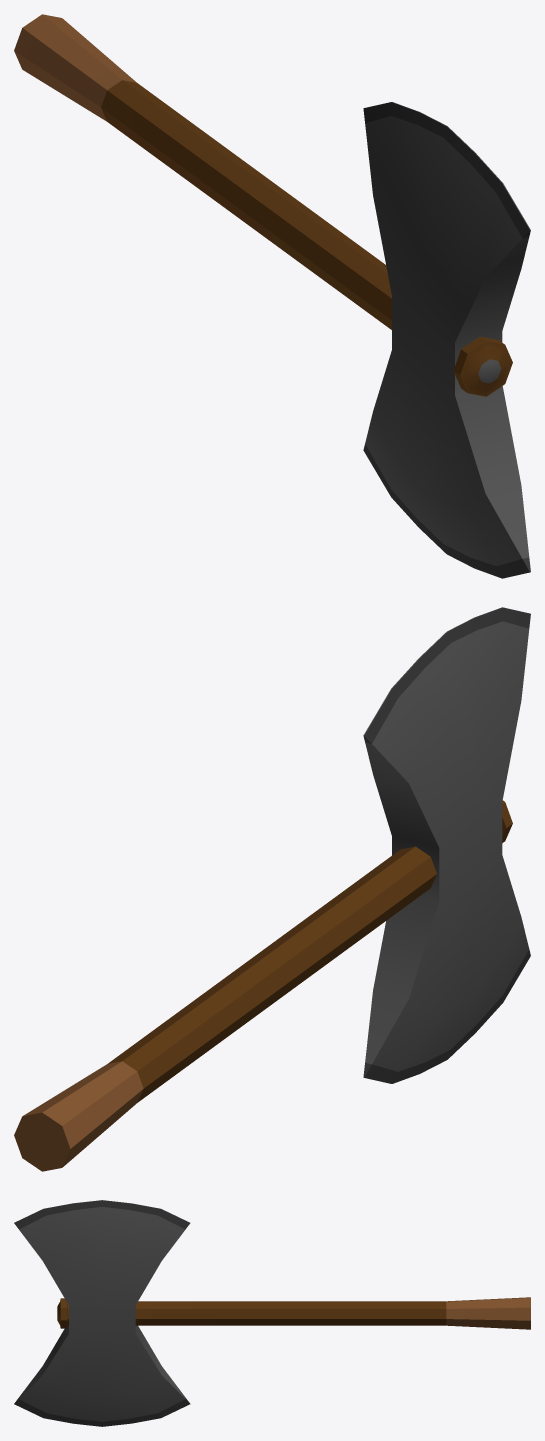
Rendered from arma_3_02.fbx.
The picture shows the model from 3 angles, top to bottom: view 1: azimuth 30°, elevation 25°; view 2: azimuth 150°, elevation 25°; view 3: azimuth 270°, elevation 25°; orthographic projection. The views are drawn at different scales.
Visible parts, largest first — view 1: 11; view 2: 11; view 3: 11.
Part boxes in pixels (x1,y1,x2,y2): 11: (14,14,530,578); 11: (14,607,530,1171); 11: (14,1200,530,1426).
Size of the model in its own units: 6.15 by 44.49 by 91.99.
